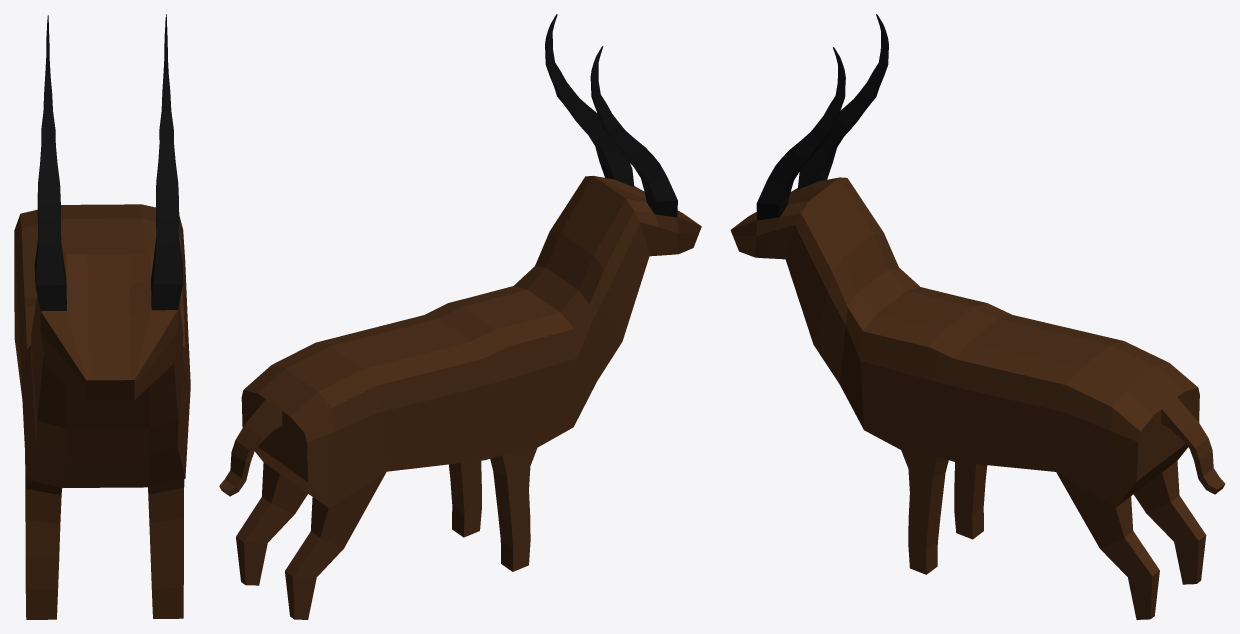
File: dog.glb
3 renders of one model, left to right at view 1: azimuth 30°, elevation 25°; view 2: azimuth 150°, elevation 25°; view 3: azimuth 270°, elevation 25°, orthographic. The views are drawn at different scales.
Visible parts, largest first — view 1: Cube, Cube.002; view 2: Cube, Cube.002; view 3: Cube, Cube.002.
Part boxes in pixels (x1,y1,x2,y2): Cube: [14, 204, 190, 619]; Cube.002: [34, 14, 183, 310]; Cube: [219, 175, 701, 619]; Cube.002: [545, 14, 677, 217]; Cube: [730, 177, 1225, 619]; Cube.002: [756, 14, 888, 220].
Size of the model in its own units: 1.1 by 1.91 by 1.72.
